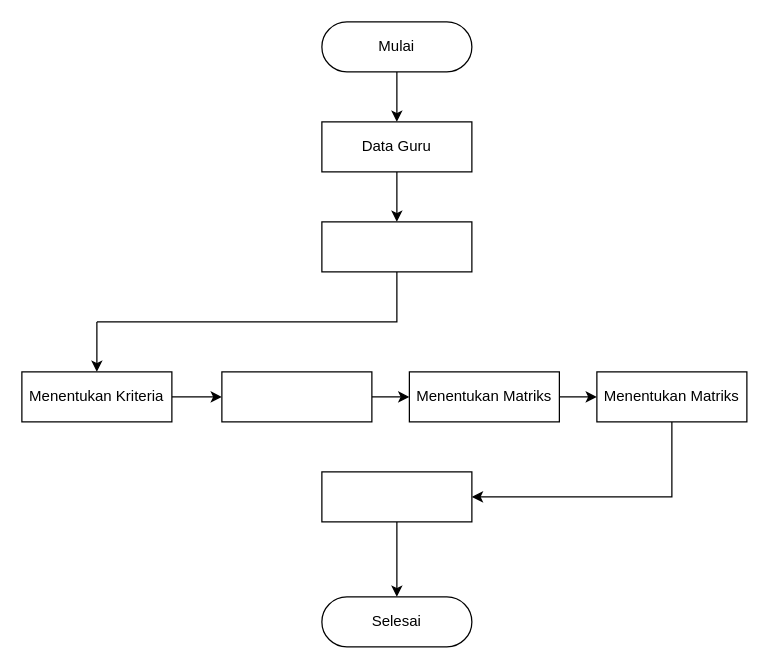
The diagram is 769 pixels wide and 669 high, and some of its shapes have lost their labels. The box of each missing label's shape, as (x1, y1, x2, y2) in pixels:
Laporan: (321, 471, 472, 522)
Menentukan Nilai: (221, 371, 372, 422)
Mengelolah Data: (321, 221, 472, 272)
